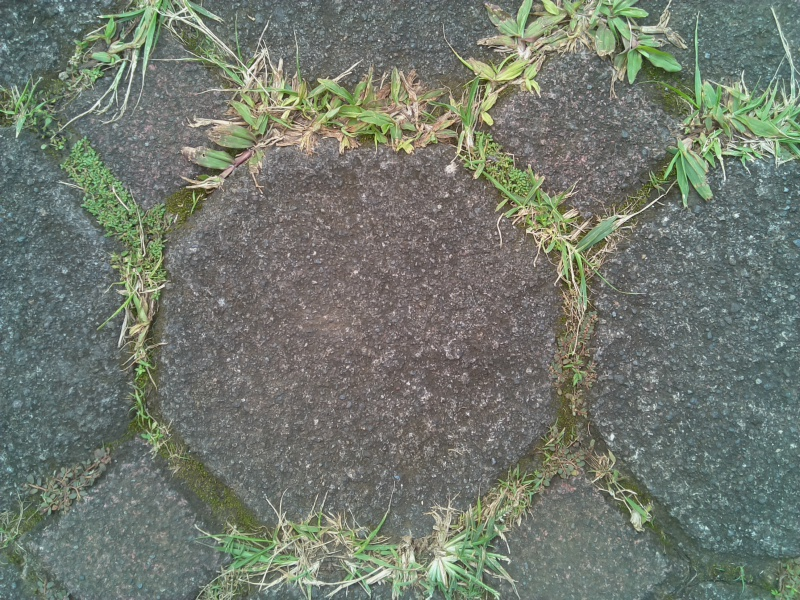Weed: (172, 68, 314, 201), (665, 77, 800, 193), (62, 135, 168, 268), (314, 59, 445, 158), (576, 2, 690, 94), (215, 506, 327, 594), (481, 1, 587, 78), (538, 206, 622, 300), (114, 227, 171, 361), (424, 508, 501, 600), (467, 128, 541, 214), (336, 504, 402, 600), (38, 444, 119, 511), (545, 305, 608, 391), (464, 46, 548, 108), (477, 457, 542, 523), (539, 424, 607, 485), (614, 472, 669, 542), (4, 79, 65, 139), (380, 527, 429, 600), (70, 26, 126, 89), (131, 414, 186, 464)
